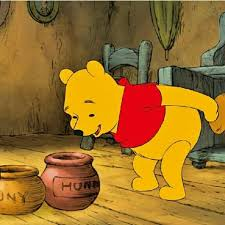Winnie: (60, 57, 126, 138)
